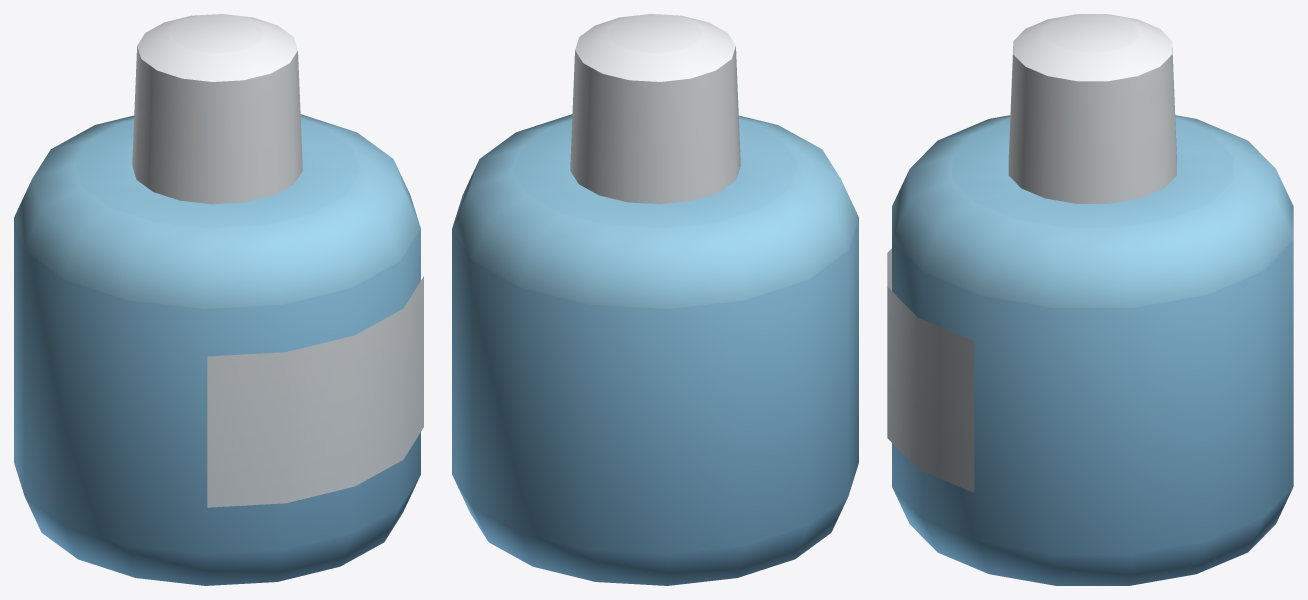
Rendered from container_bathroom_B_blue.fbx.
The picture shows the model from 3 angles, left to right: view 1: azimuth 30°, elevation 25°; view 2: azimuth 150°, elevation 25°; view 3: azimuth 270°, elevation 25°; orthographic projection.
Visible parts, largest first — view 1: container_bathroom_B_blue; view 2: container_bathroom_B_blue; view 3: container_bathroom_B_blue.
Part boxes in pixels (x1,y1,x2,y2): container_bathroom_B_blue: [14, 14, 423, 585]; container_bathroom_B_blue: [452, 14, 858, 585]; container_bathroom_B_blue: [887, 14, 1293, 585].
Size of the model in its own units: 0.312 by 0.422 by 0.3162.
